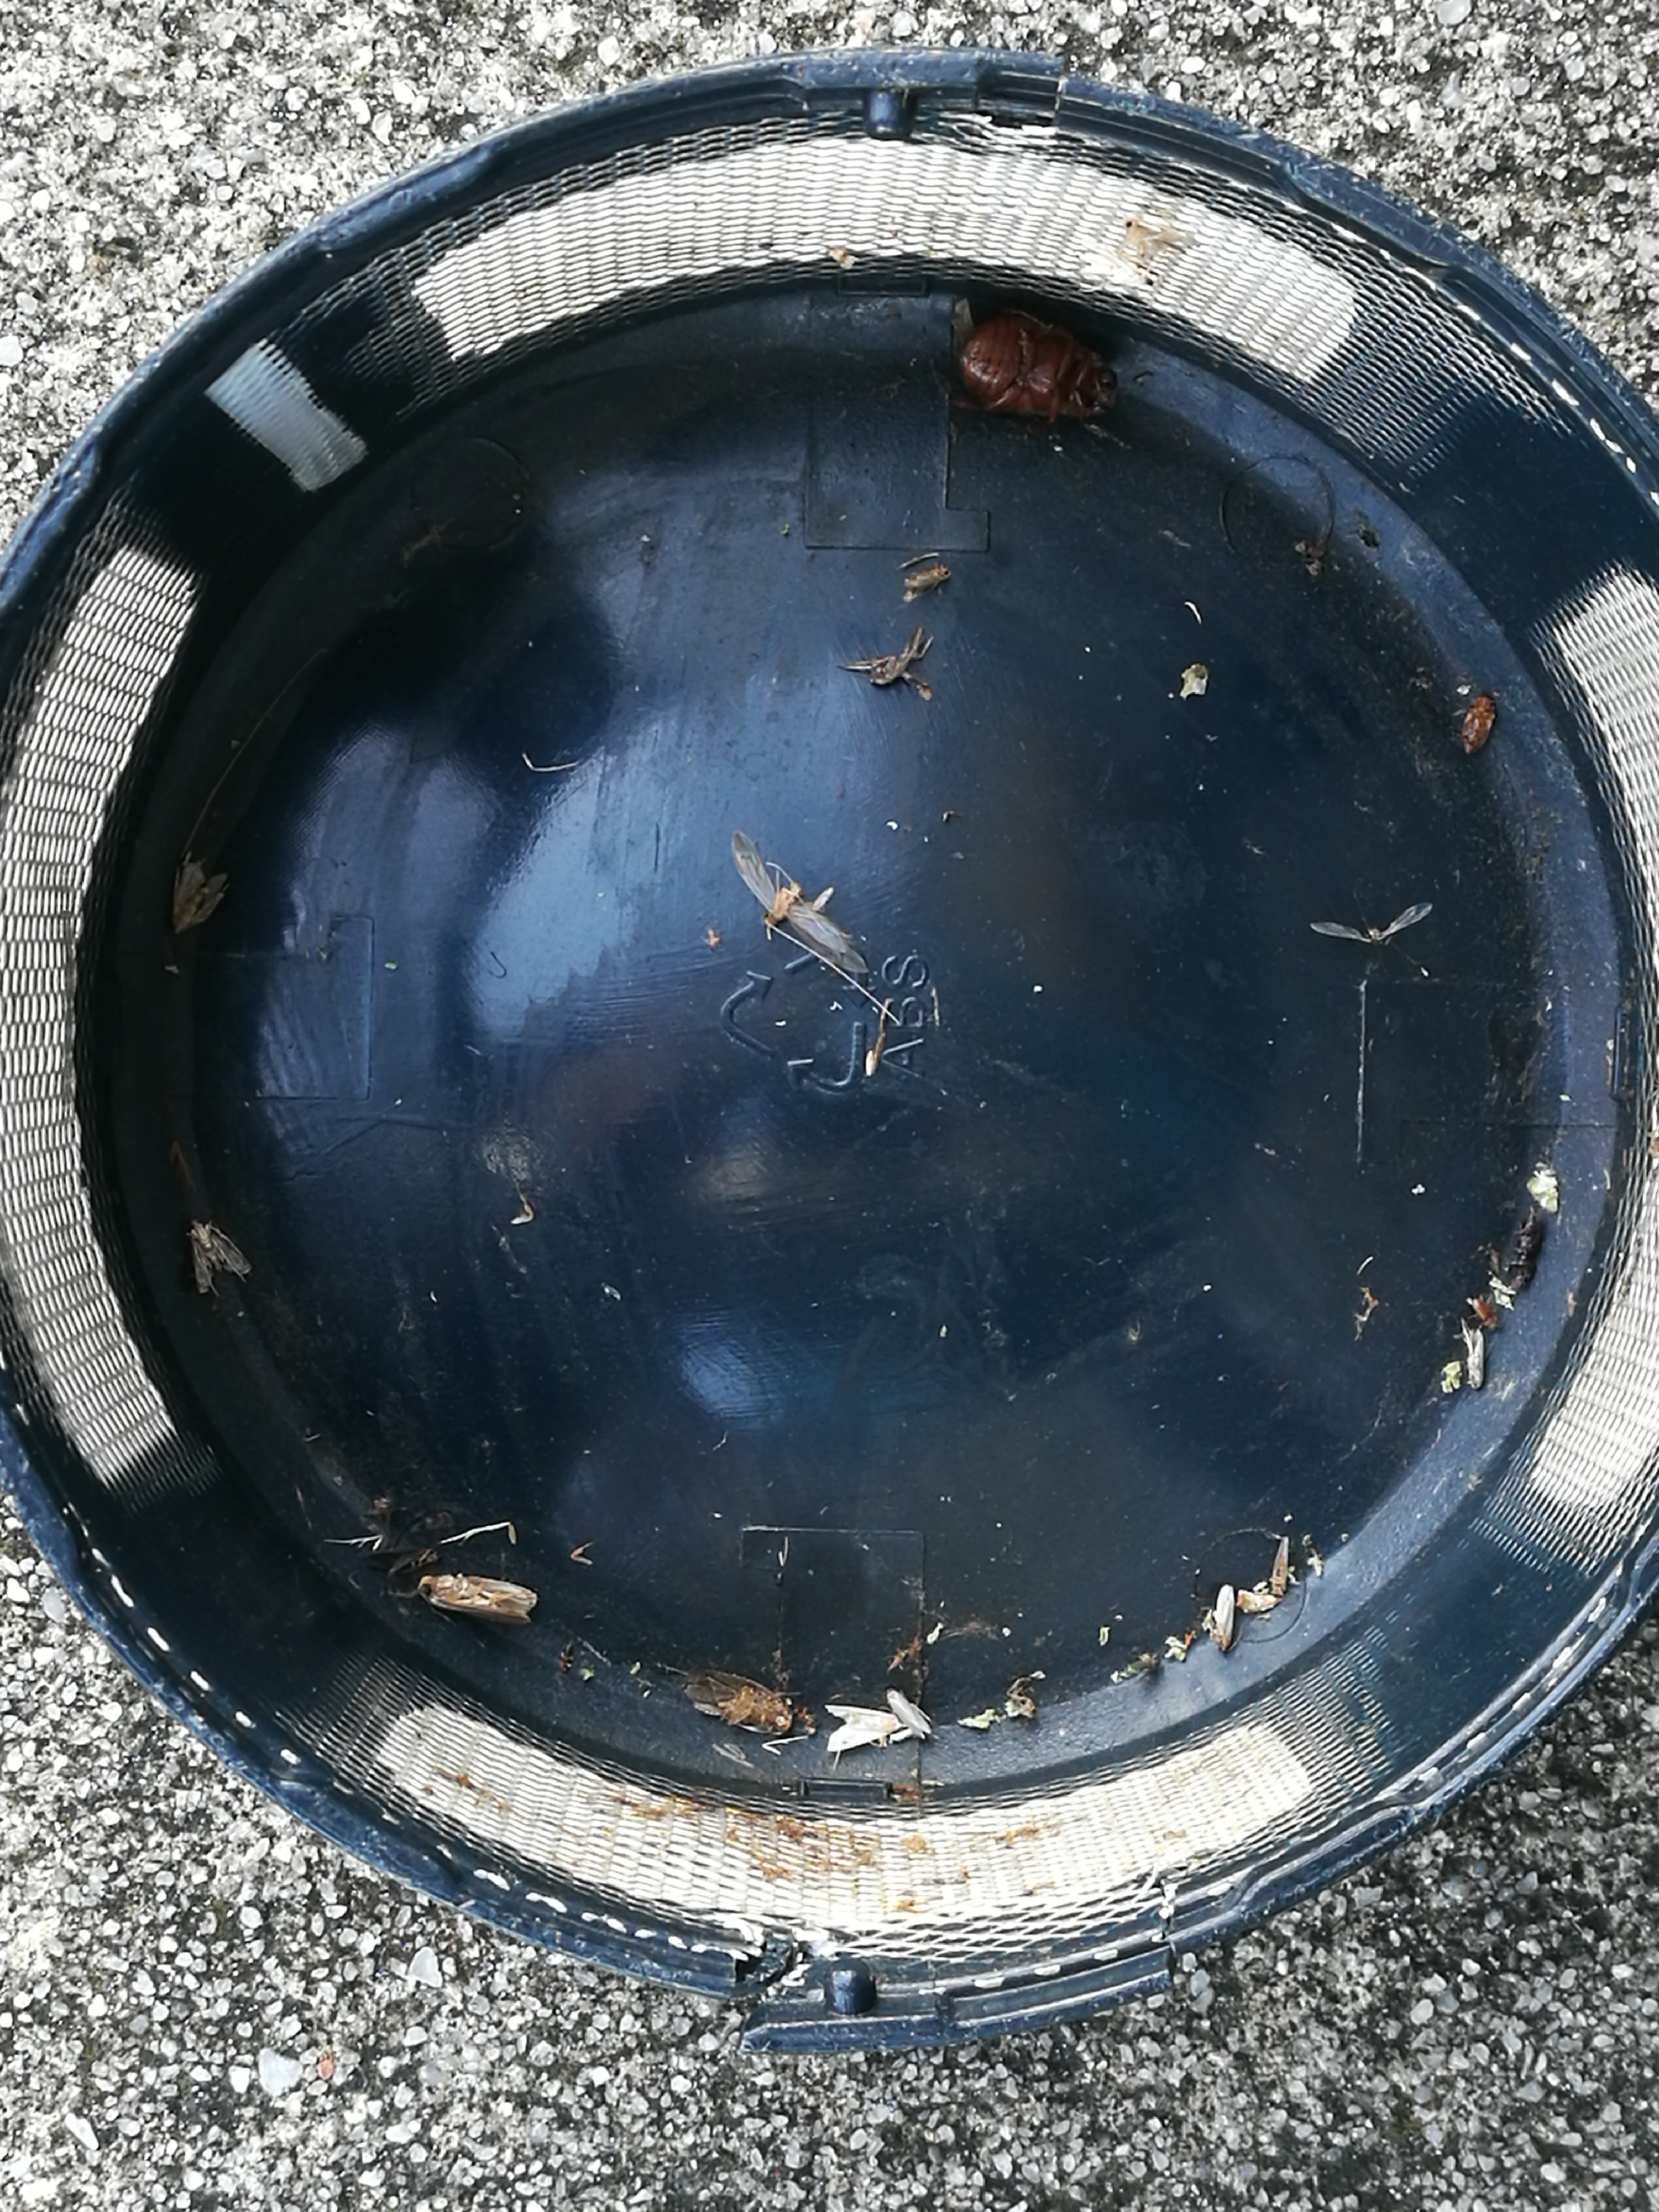beetle: (960, 315, 1115, 416), (1462, 695, 1497, 752)
mosquito: (366, 1550, 436, 1573), (873, 650, 911, 686), (903, 566, 948, 592), (1218, 1583, 1234, 1653)
moth: (732, 831, 868, 974), (683, 1669, 793, 1733), (418, 1575, 537, 1625), (190, 1219, 249, 1294), (174, 860, 227, 937), (824, 1703, 901, 1750)
